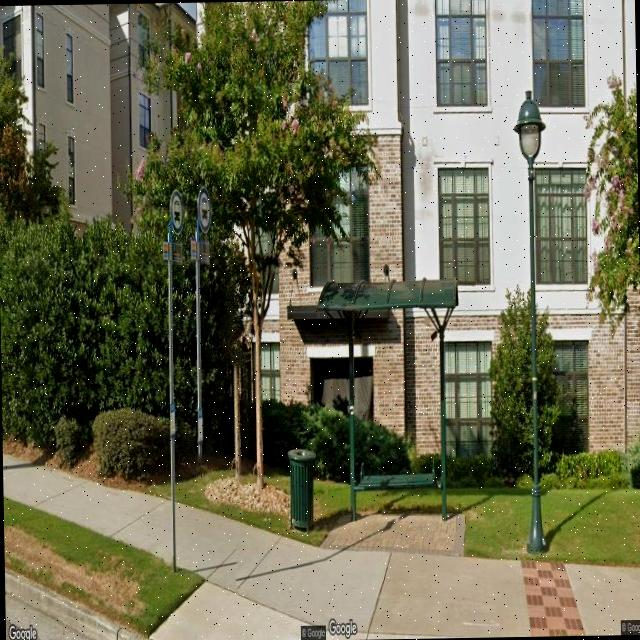seating: (352, 458, 442, 493)
shelter: (318, 274, 462, 523)
trash_can: (287, 446, 317, 530)
